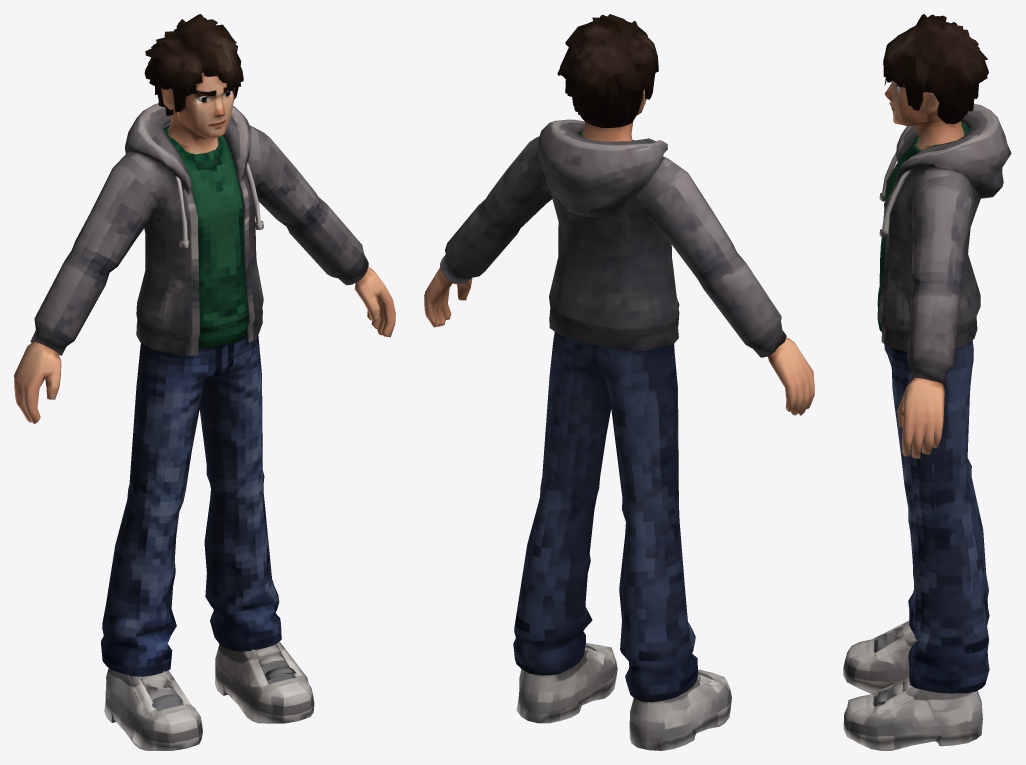
The model's file is protagonist_meshy.glb.
The picture shows the model from 3 angles, left to right: view 1: azimuth 30°, elevation 25°; view 2: azimuth 150°, elevation 25°; view 3: azimuth 270°, elevation 25°; orthographic projection. The views are drawn at different scales.
Parts seen in each view (by area): view 1: geometry_0; view 2: geometry_0; view 3: geometry_0.
Part boxes in pixels (x1,y1,x2,y2): geometry_0: (14,14,395,750); geometry_0: (424,14,814,750); geometry_0: (843,14,1011,750).
Bounding box in the file's own units: 0.5347 × 0.9507 × 0.209.
1 material, 1 textured.
